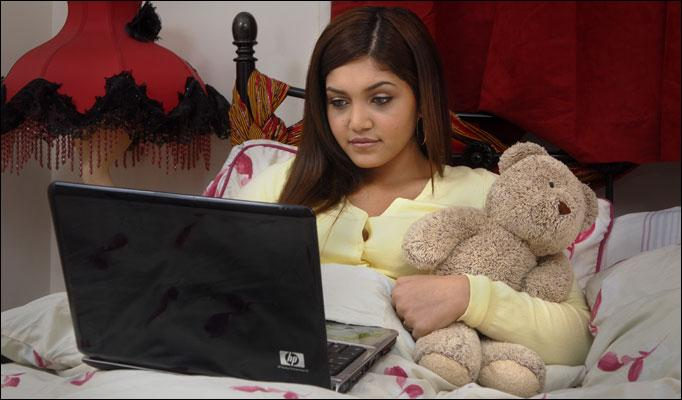person: (218, 6, 591, 368)
